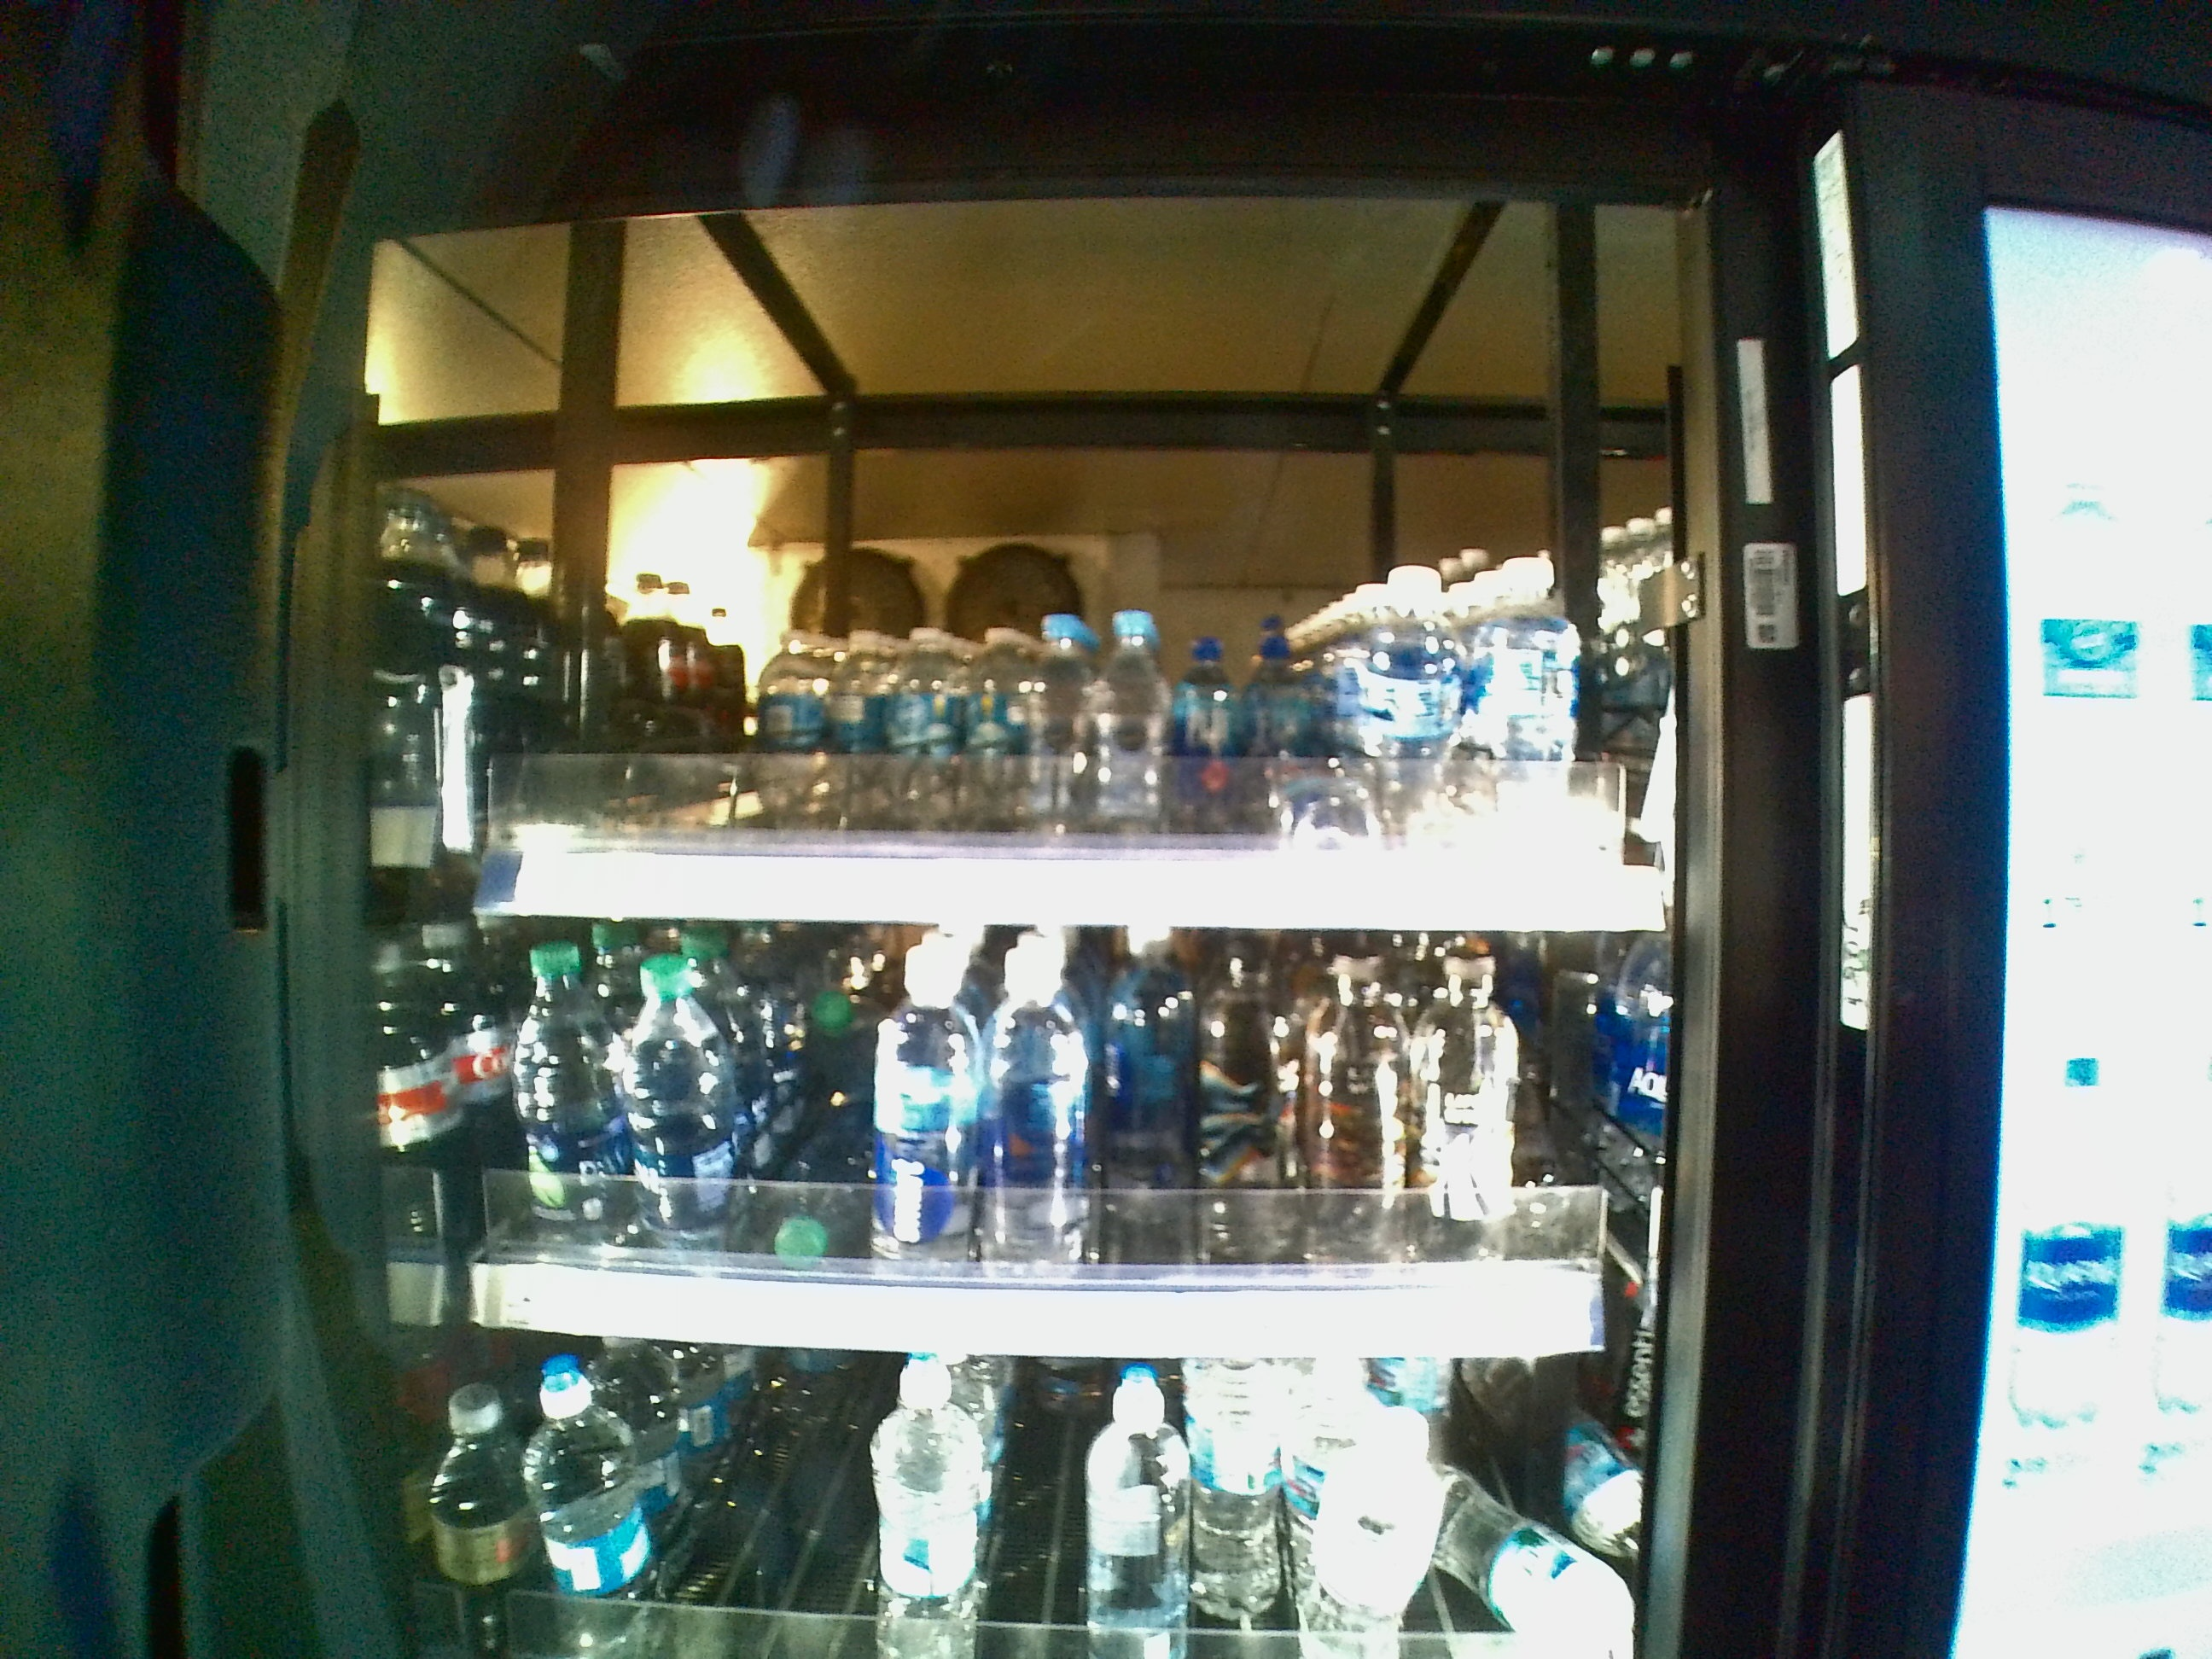shelf: (444, 227, 1679, 932), (441, 929, 1689, 1364)
